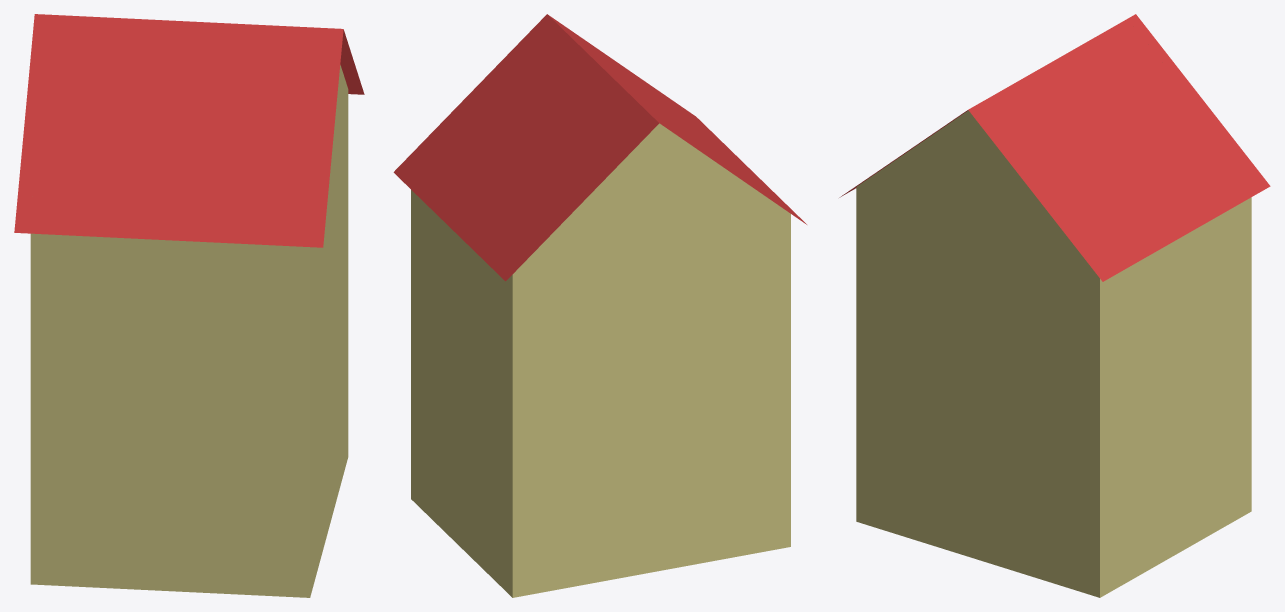
3 views of the same model, side by side, from view 1: azimuth 30°, elevation 25°; view 2: azimuth 150°, elevation 25°; view 3: azimuth 270°, elevation 25° (orthographic). The views are drawn at different scales.
Visible parts, largest first — view 1: group_5, group_3, group_4; view 2: group_5, group_3, group_4; view 3: group_5, group_3, group_4.
Part boxes in pixels (x1,y1,x2,y2): group_5: (30,65,348,597); group_3: (16,14,343,247); group_4: (14,16,364,247); group_5: (411,123,790,597); group_3: (393,15,789,281); group_4: (502,14,806,224); group_5: (856,110,1251,597); group_3: (839,16,1270,281); group_4: (918,14,1195,160).
Bounding box in the file's own units: 15.71 × 16.09 × 18.6.
